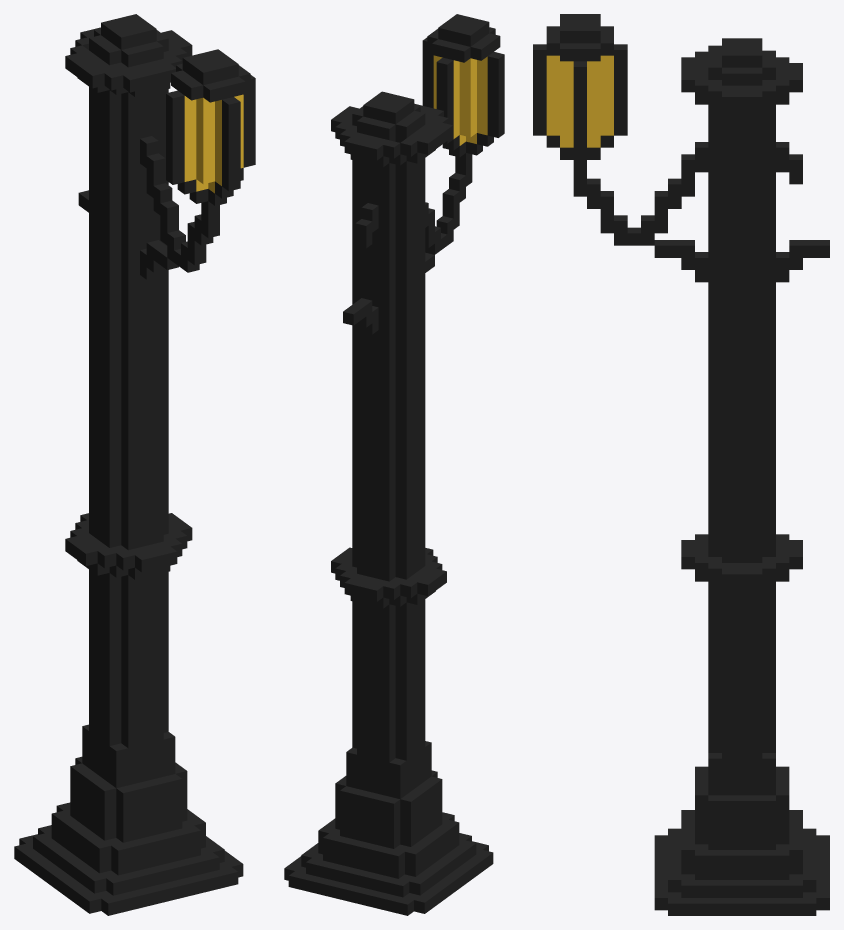
The model's file is Lanternpaal-3.obj.
The picture shows the model from 3 angles, left to right: view 1: azimuth 30°, elevation 25°; view 2: azimuth 150°, elevation 25°; view 3: azimuth 270°, elevation 25°; orthographic projection. The views are drawn at different scales.
Bounding box in the file's own units: 1.3 × 7 × 2.2.
1 material, 1 textured.
